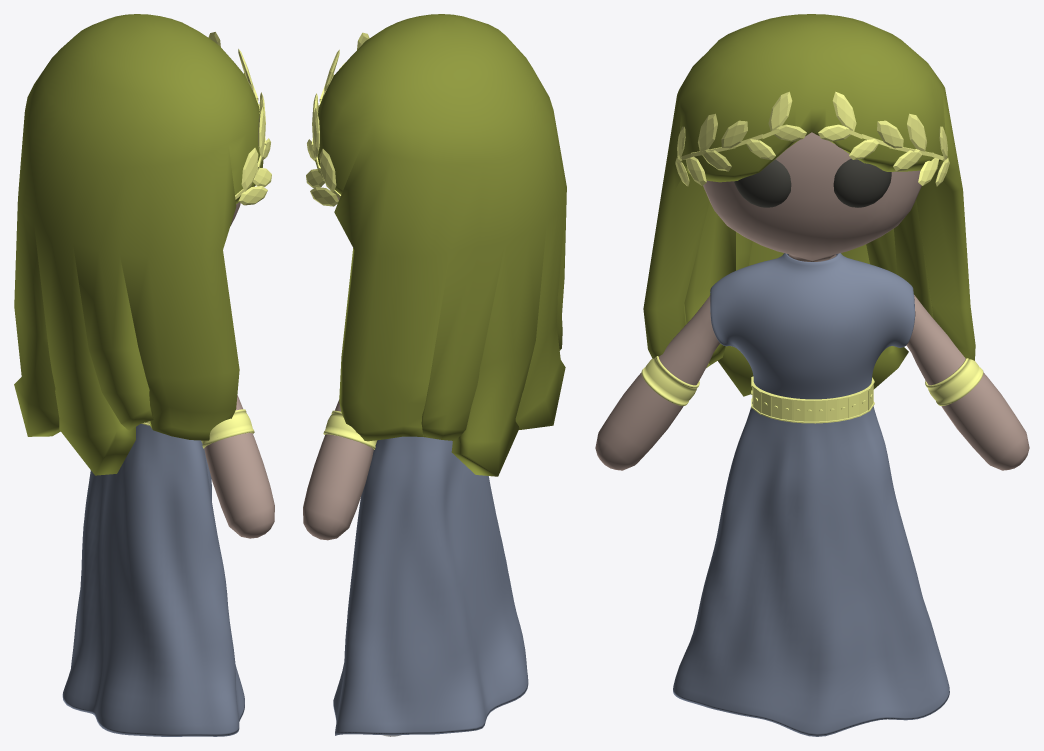
Rendered from FullSizeTanfanaShadeSmooth1.fbx.
The picture shows the model from 3 angles, left to right: view 1: azimuth 30°, elevation 25°; view 2: azimuth 150°, elevation 25°; view 3: azimuth 270°, elevation 25°; orthographic projection.
Visible parts, largest first — view 1: HairTan, Skirt Top part, BodyReto, Circlet, Bracelets; view 2: HairTan, Skirt Top part, BodyReto, Circlet, Bracelets; view 3: Skirt Top part, HairTan, BodyReto, Circlet, Eyes, Belt, Bracelets.
Boxes of the visible parts, box(x1,y1,x2,y2) form: HairTan: box(14, 14, 263, 475); Skirt Top part: box(62, 424, 244, 736); BodyReto: box(204, 202, 274, 538); Circlet: box(208, 32, 271, 205); Bracelets: box(201, 409, 254, 448); HairTan: box(315, 14, 566, 476); Skirt Top part: box(333, 436, 528, 735); BodyReto: box(303, 196, 390, 736); Circlet: box(306, 32, 369, 206); Bracelets: box(323, 410, 377, 449); Skirt Top part: box(673, 253, 949, 736); HairTan: box(643, 14, 975, 396); BodyReto: box(595, 132, 1029, 470); Circlet: box(675, 91, 949, 186); Eyes: box(734, 158, 891, 207); Belt: box(751, 376, 874, 423); Bracelets: box(641, 356, 983, 405).
Size of the model in its own units: 141 by 440 by 252.
